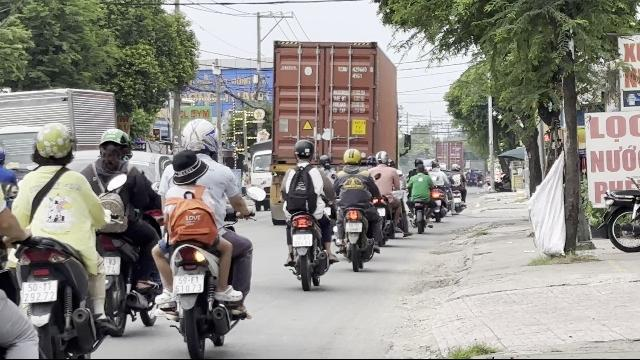helmet: (178, 117, 220, 159), (34, 124, 74, 166), (96, 128, 132, 164), (292, 139, 314, 163), (342, 148, 362, 166)
licenseplate: (22, 280, 56, 302), (172, 274, 204, 294), (292, 234, 312, 246), (346, 222, 362, 232)
motorcyclist: (150, 111, 256, 355), (9, 125, 116, 359), (85, 126, 163, 338), (276, 137, 336, 289), (332, 148, 382, 270)
nohelmet: (169, 150, 209, 186)
